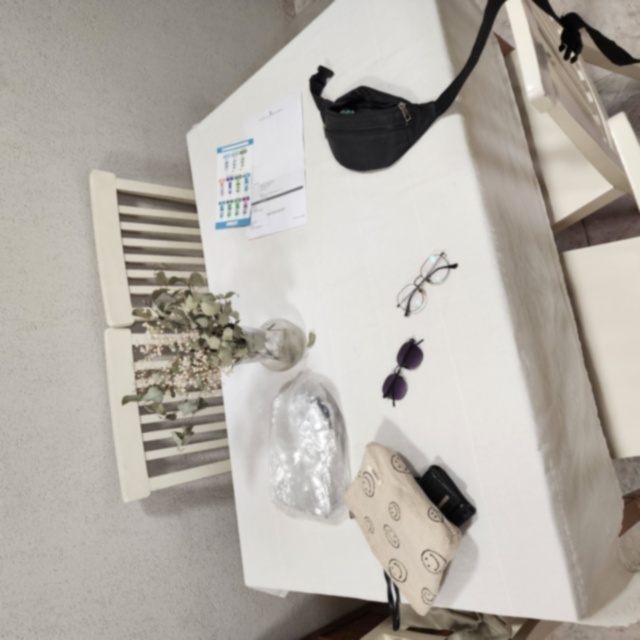glasses: (395, 252, 460, 318), (380, 337, 426, 408)
